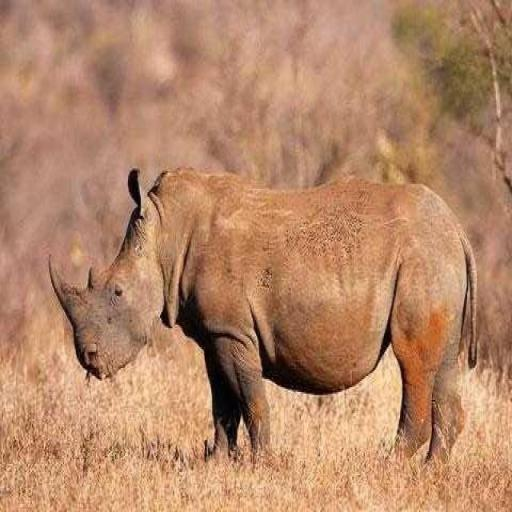Rhino: (48, 164, 478, 470)
